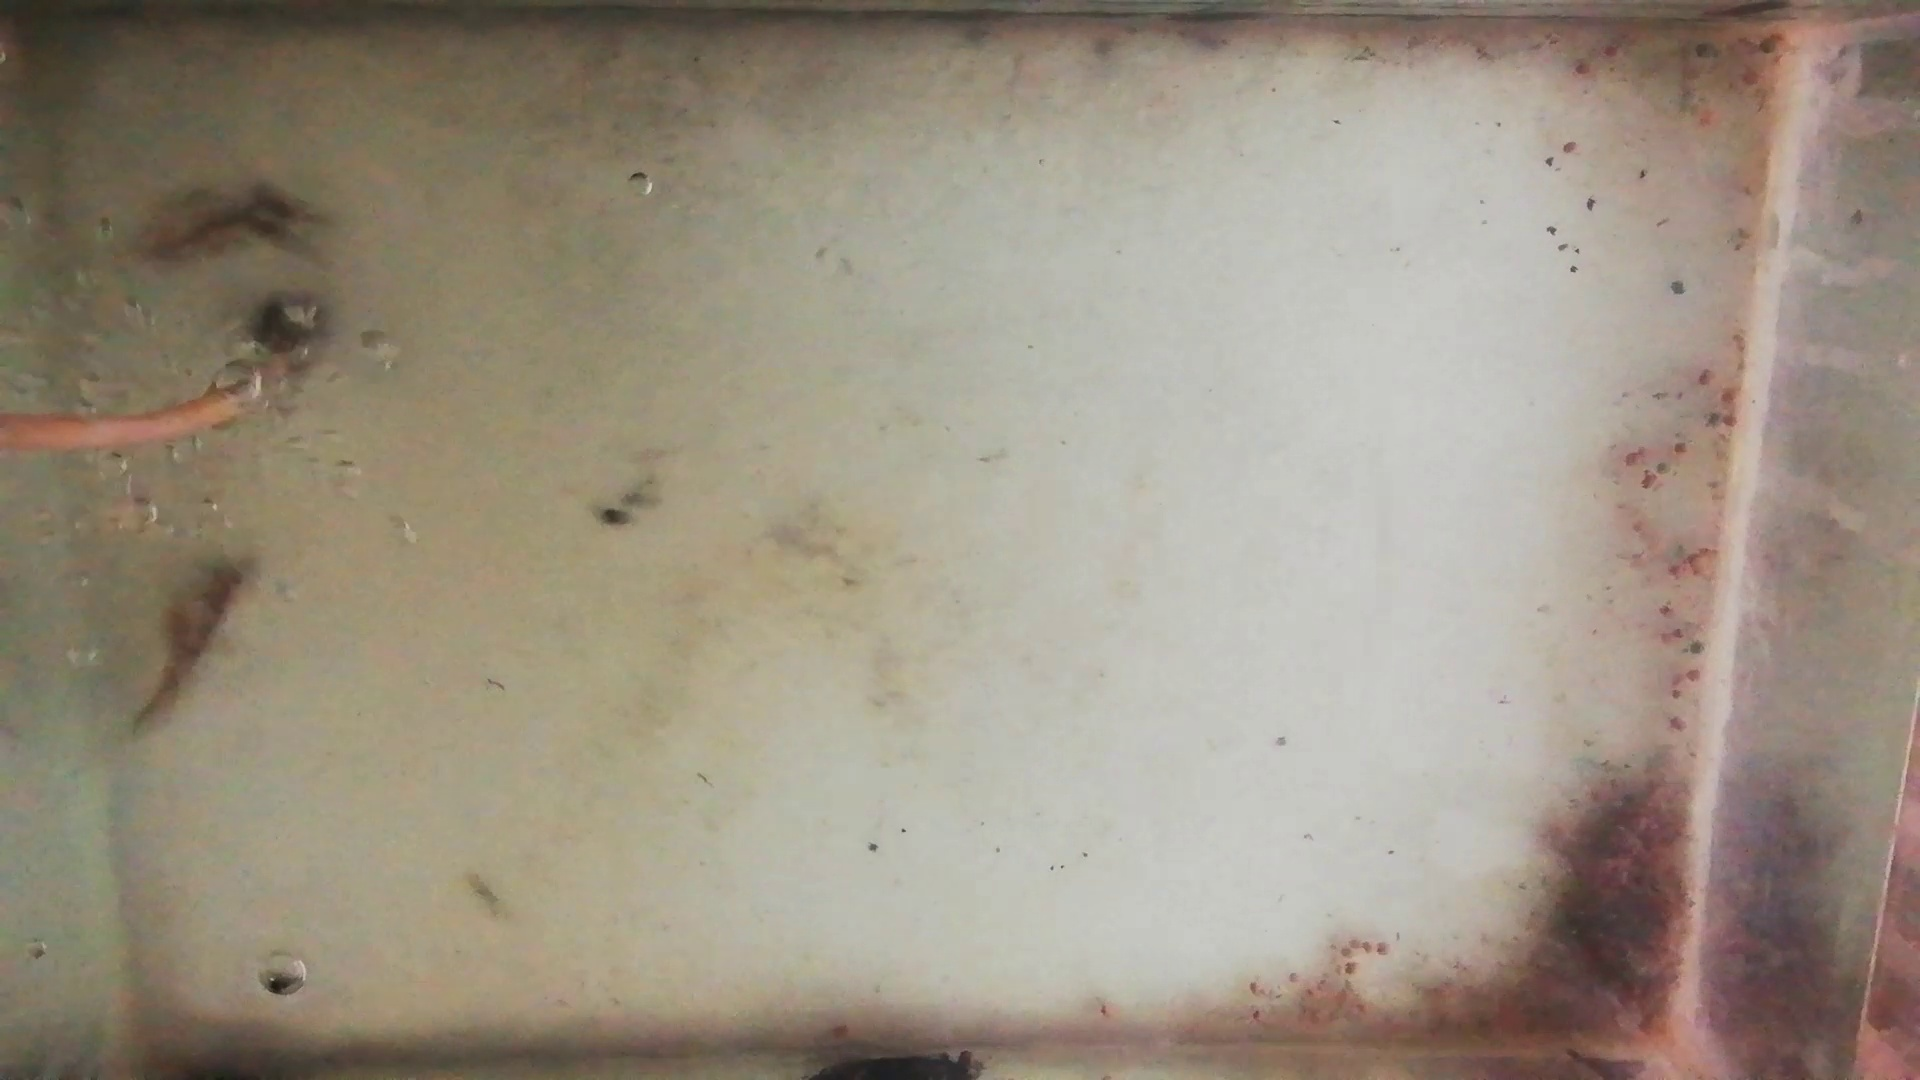fish: (132, 551, 257, 732), (133, 183, 324, 262)
